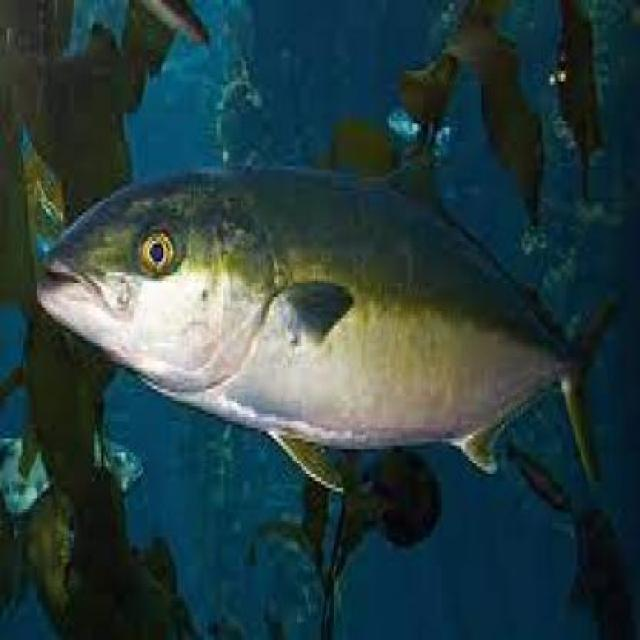Kingfish: (34, 140, 640, 522)
